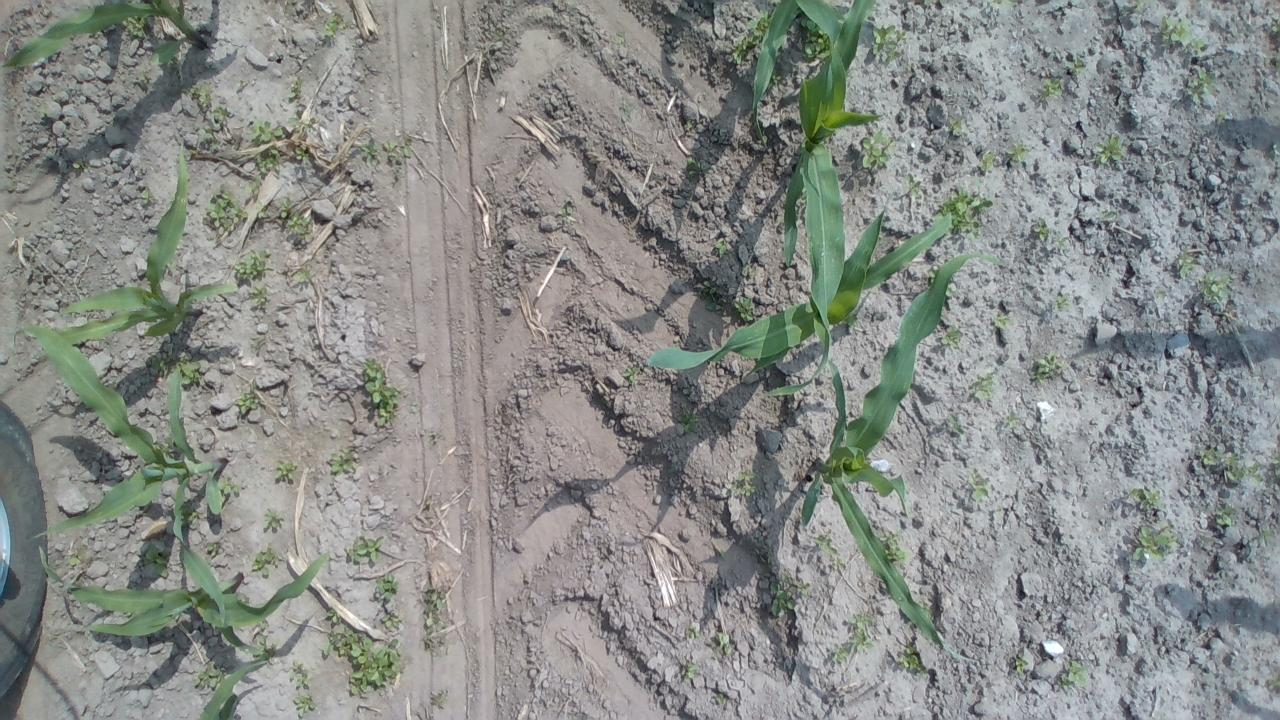Maize: (791, 247, 1001, 672), (642, 212, 956, 384), (766, 0, 886, 396), (20, 323, 228, 538), (54, 141, 236, 349), (37, 542, 330, 658), (3, 0, 206, 72), (750, 0, 804, 147), (202, 662, 268, 720)
Weeds: (320, 625, 402, 696), (934, 184, 994, 241), (360, 357, 398, 426), (1200, 448, 1264, 488), (147, 347, 205, 388), (730, 8, 770, 64), (204, 186, 247, 238), (834, 612, 874, 662), (769, 572, 811, 618), (1133, 520, 1179, 562), (1161, 14, 1206, 55), (422, 588, 446, 660), (869, 21, 910, 62), (798, 15, 832, 61), (861, 130, 898, 168), (232, 248, 273, 280), (816, 528, 846, 570), (345, 534, 386, 564), (278, 200, 311, 236), (1029, 352, 1064, 384), (1182, 68, 1218, 98), (232, 382, 262, 417), (1198, 272, 1230, 304), (142, 543, 169, 580), (1096, 133, 1125, 167), (879, 534, 911, 564), (1059, 659, 1090, 689), (250, 119, 286, 144), (252, 544, 280, 576), (194, 662, 224, 690), (730, 469, 758, 498), (254, 635, 284, 662), (694, 280, 719, 312), (328, 448, 356, 475), (676, 406, 702, 435), (1131, 486, 1165, 508), (899, 647, 926, 674), (255, 148, 282, 174), (319, 12, 344, 40), (375, 572, 400, 600), (973, 371, 996, 400), (382, 138, 411, 160), (182, 82, 208, 106), (123, 14, 147, 39), (752, 542, 775, 568), (944, 115, 970, 138), (262, 510, 286, 534), (1039, 75, 1063, 99), (939, 326, 963, 350), (290, 662, 312, 688), (968, 473, 990, 499), (198, 127, 222, 150), (1174, 253, 1196, 278), (216, 482, 238, 506), (734, 297, 756, 321), (1008, 142, 1032, 162), (364, 136, 379, 167), (686, 157, 707, 179), (978, 148, 996, 173), (1031, 216, 1049, 240), (294, 696, 314, 717), (246, 285, 266, 306), (181, 505, 198, 528), (245, 176, 262, 199), (902, 173, 918, 197), (428, 688, 448, 707), (842, 314, 861, 334), (276, 463, 297, 481), (287, 78, 305, 99), (1215, 508, 1234, 527), (1054, 295, 1074, 313), (994, 312, 1014, 330), (945, 413, 962, 434), (210, 105, 232, 121), (717, 634, 733, 656), (624, 366, 642, 385), (382, 609, 399, 629), (557, 205, 574, 225), (1012, 655, 1027, 675), (324, 608, 342, 624), (292, 146, 310, 162), (253, 202, 269, 220), (712, 240, 729, 256), (206, 540, 222, 557), (1068, 57, 1084, 74), (64, 555, 84, 568), (682, 664, 698, 680), (292, 270, 310, 284), (989, 0, 1016, 9), (139, 188, 153, 204), (1260, 526, 1274, 542), (686, 624, 702, 638), (741, 264, 757, 276), (944, 282, 956, 298), (622, 102, 632, 121), (1054, 233, 1067, 247), (928, 264, 938, 282), (616, 31, 626, 48), (1214, 111, 1228, 123), (1273, 454, 1280, 478), (1099, 210, 1117, 219), (713, 694, 726, 706), (70, 159, 82, 172), (408, 398, 419, 412), (1134, 0, 1151, 9), (1154, 288, 1166, 300), (286, 115, 299, 126), (38, 105, 49, 118), (138, 71, 150, 82), (770, 73, 781, 85), (234, 80, 248, 88), (1269, 678, 1280, 688), (1008, 415, 1018, 426), (494, 30, 504, 40), (145, 280, 152, 292), (1272, 22, 1280, 32), (430, 431, 438, 438), (686, 121, 692, 129), (924, 0, 930, 6)
